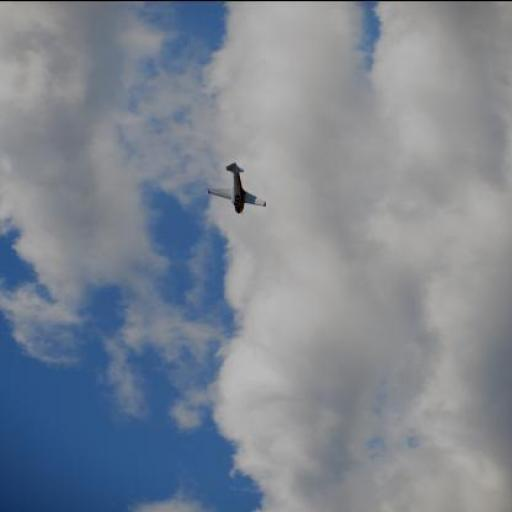aircraft: (208, 163, 267, 214)
